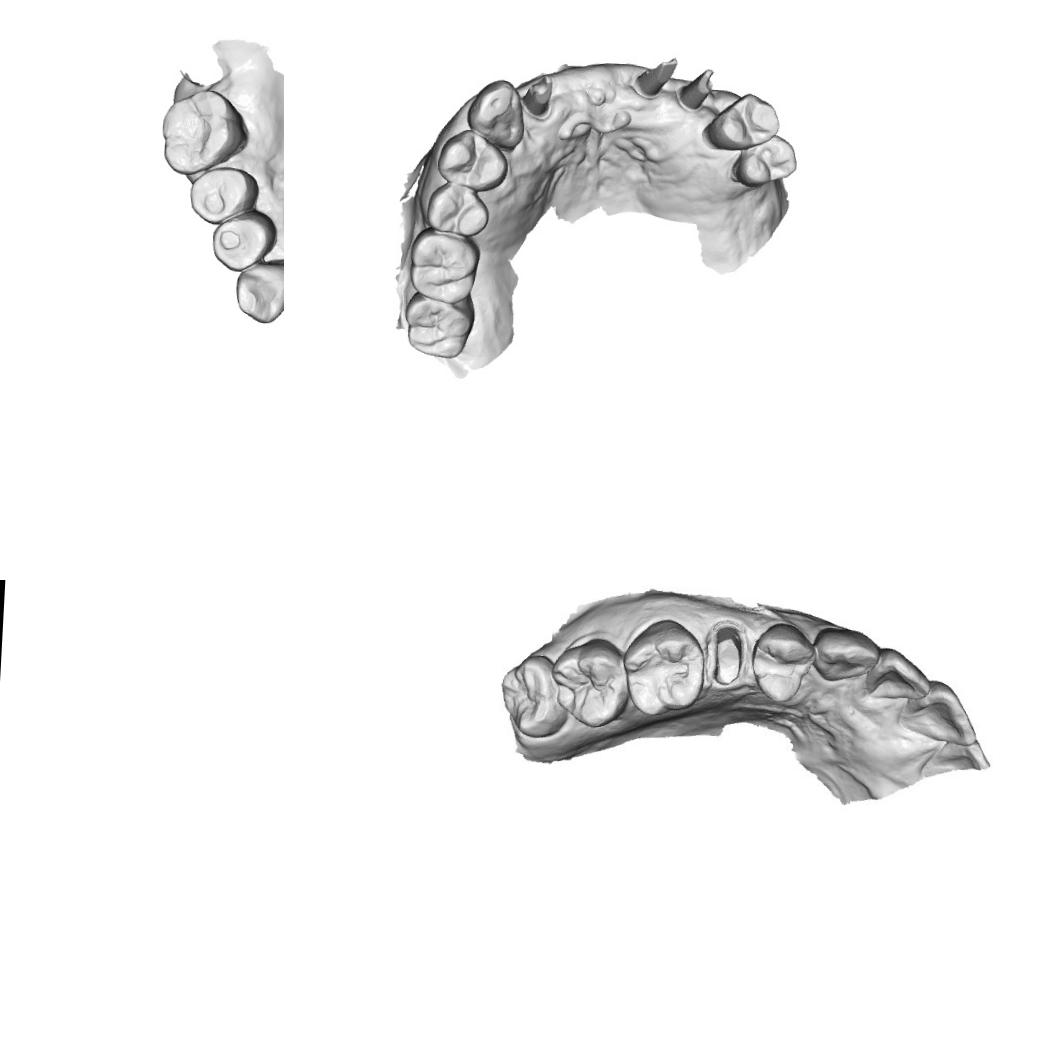abutment: (628, 48, 682, 102), (671, 62, 719, 115), (520, 68, 558, 122)
canine: (463, 74, 530, 153), (810, 622, 880, 694), (232, 255, 284, 325)
crown: (704, 616, 750, 691)
incisor: (894, 676, 978, 751), (863, 643, 934, 710)
molar: (618, 616, 708, 722), (158, 85, 250, 177), (554, 630, 630, 728), (496, 650, 571, 742), (407, 228, 482, 303), (399, 291, 478, 360)
premolar: (746, 616, 818, 706), (702, 88, 782, 154), (208, 205, 280, 274), (434, 126, 510, 190), (188, 164, 262, 228), (729, 129, 799, 191), (424, 180, 492, 236)
